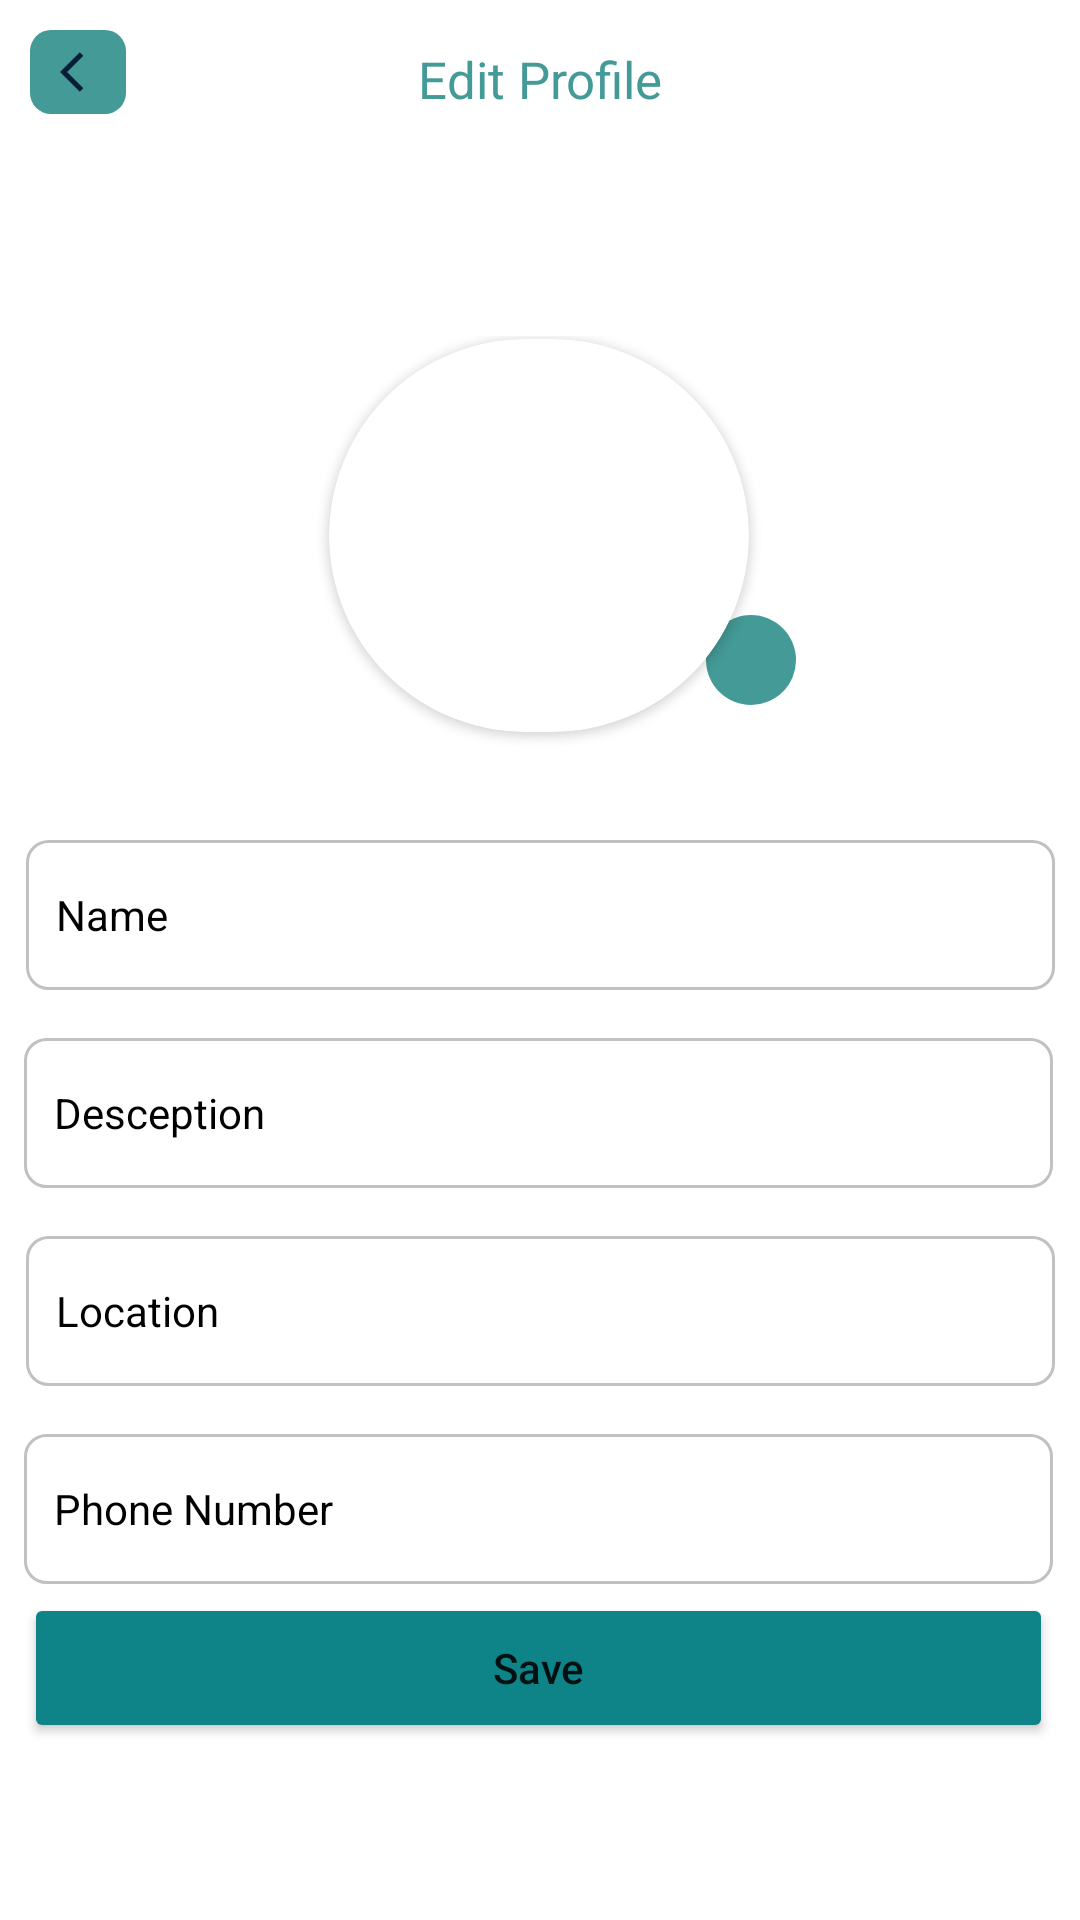

Point at icon controls on the screen. Image size 1080x1920, points as point (x, y).
arrow back: point (71, 72)
